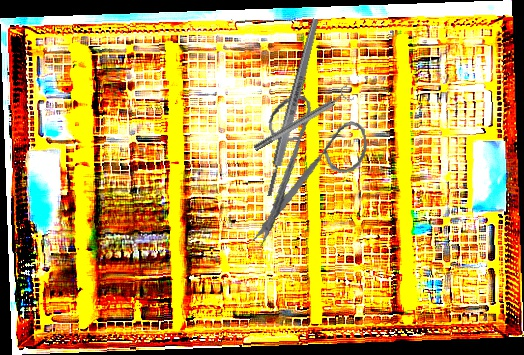Fixation Ring: (249, 84, 356, 156)
Iris Scissors: (230, 85, 381, 252)
Scalpel Handle: (263, 17, 322, 198)
